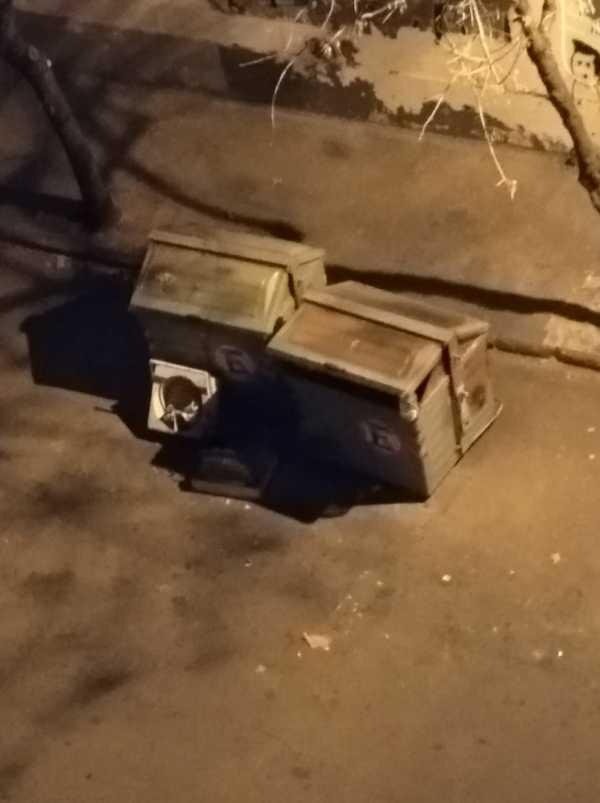Dechets: (146, 358, 217, 438)
Trash: (104, 203, 339, 444), (267, 276, 500, 503), (185, 428, 277, 505)
